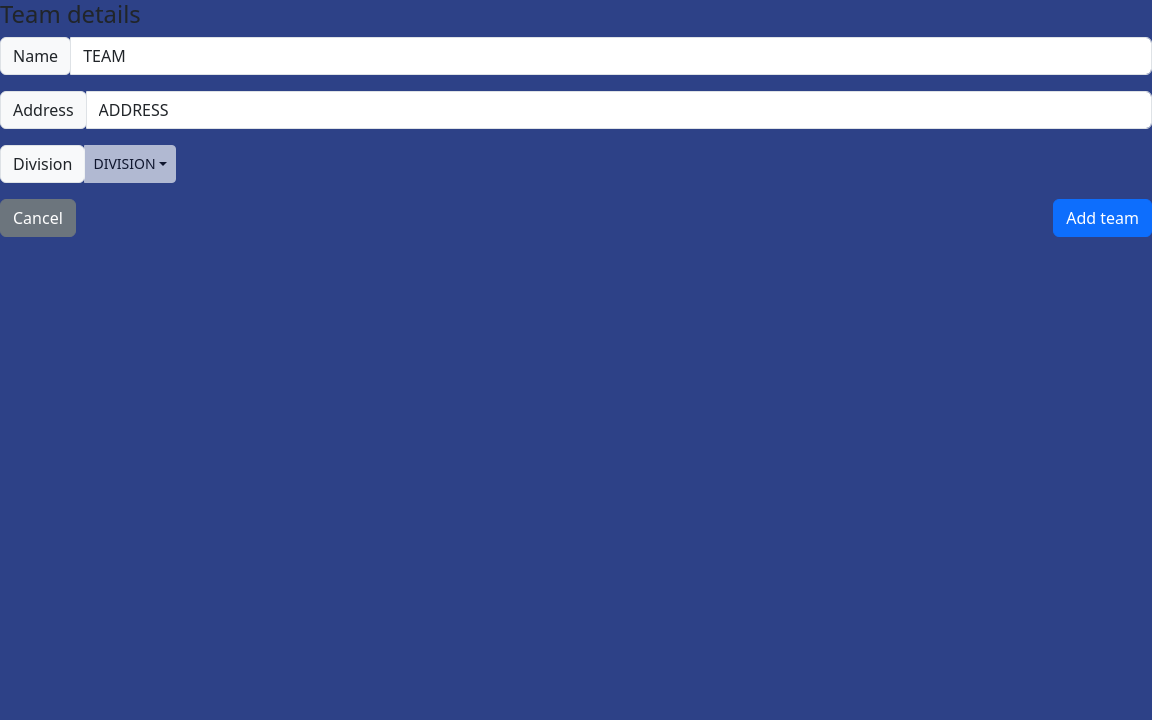
EditTeamDetails › interactivity › shows an error if unable to save
Click the button "Add team": coordinates (1103, 218) [1053,199,1151,237]
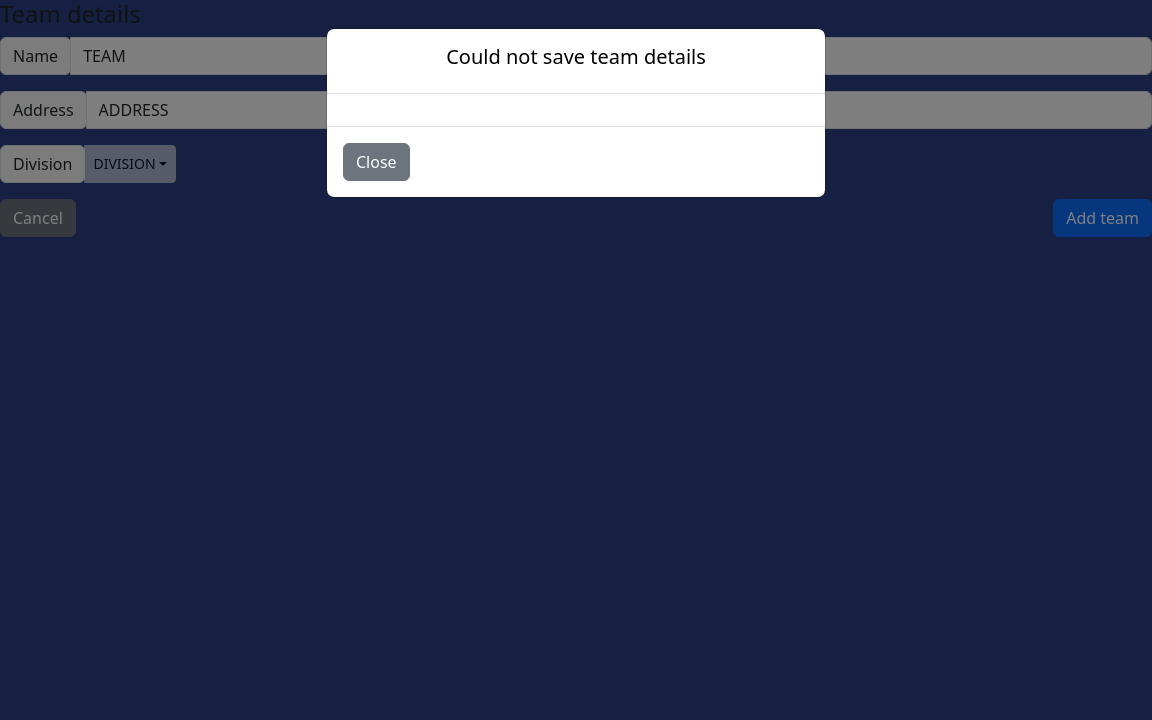
expect the text "Could not save team details" is shown: met, box [446,45,706,69]
